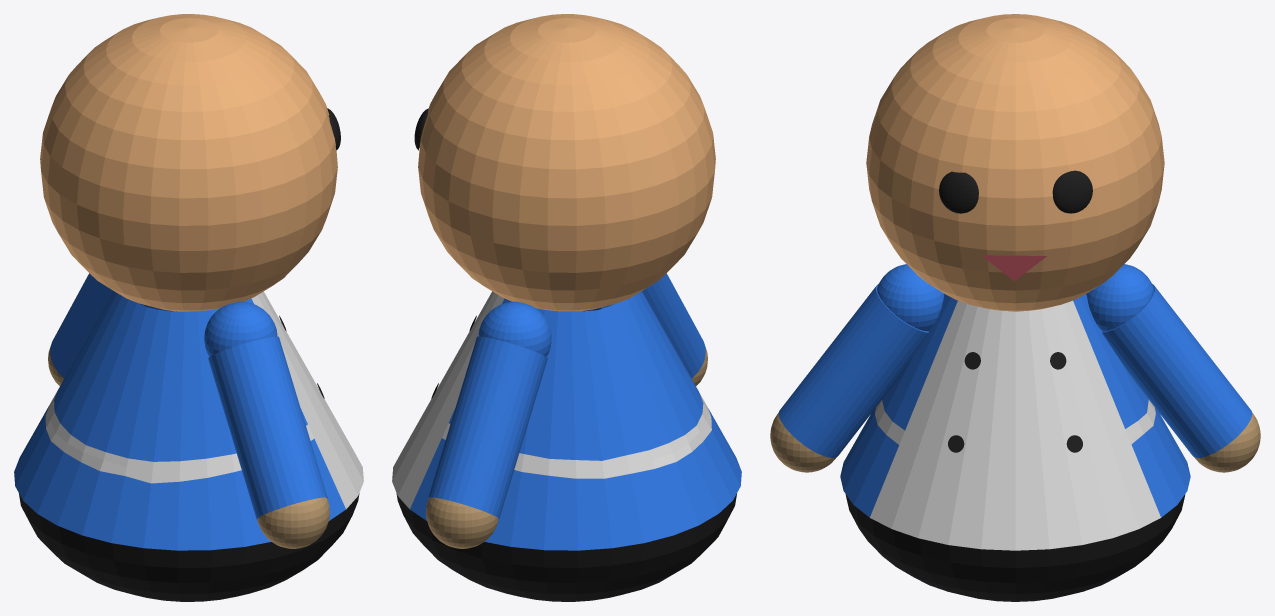
File: Player_.fbx
3 views of the same model, side by side, from view 1: azimuth 30°, elevation 25°; view 2: azimuth 150°, elevation 25°; view 3: azimuth 270°, elevation 25° (orthographic).
Parts seen in each view (by area): view 1: 足下半身; view 2: 足下半身; view 3: 足下半身.
Boxes of the visible parts, x1,y1,x2,y2 form: 足下半身: (14,14,363,601); 足下半身: (392,14,741,601); 足下半身: (770,14,1260,601).
Size of the model in its own units: 200 by 347 by 280.
